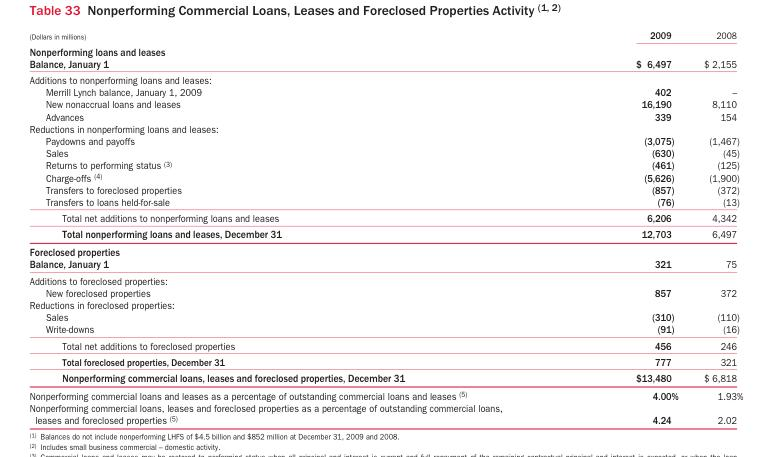table: (28, 29, 742, 425)
table column: (28, 29, 568, 425), (568, 29, 690, 425), (690, 29, 742, 425)
table column header: (28, 29, 742, 42)
table projected row header: (28, 71, 742, 85), (28, 272, 742, 286), (28, 122, 742, 134), (28, 298, 742, 310)
table row: (28, 242, 742, 272), (28, 42, 742, 71), (28, 401, 742, 425), (28, 225, 742, 242), (28, 369, 742, 386), (28, 209, 742, 225), (28, 337, 742, 353), (28, 353, 742, 369), (28, 322, 742, 337), (28, 386, 742, 401), (28, 71, 742, 85), (28, 195, 742, 209), (28, 272, 742, 286), (28, 29, 742, 42), (28, 97, 742, 110), (28, 158, 742, 171), (28, 85, 742, 97), (28, 110, 742, 122), (28, 122, 742, 134), (28, 134, 742, 146), (28, 146, 742, 158), (28, 171, 742, 183), (28, 183, 742, 195), (28, 286, 742, 298), (28, 298, 742, 310), (28, 310, 742, 322)
